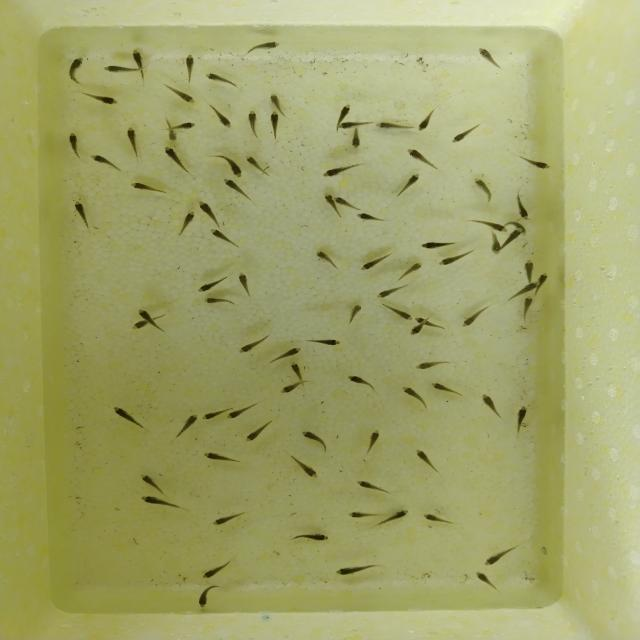fingerling: (284, 451, 322, 480), (226, 399, 267, 422), (234, 332, 274, 354), (162, 144, 190, 175), (162, 83, 198, 107), (321, 162, 368, 180), (138, 473, 176, 495), (137, 495, 185, 512), (207, 227, 244, 249), (477, 45, 507, 72), (398, 384, 429, 410), (507, 192, 534, 221), (302, 430, 332, 456), (332, 563, 387, 577), (213, 154, 245, 178), (405, 146, 438, 169), (245, 154, 278, 177), (414, 447, 441, 475), (239, 40, 281, 58), (196, 273, 232, 294), (480, 546, 516, 567), (195, 582, 222, 610), (204, 70, 239, 91), (219, 178, 252, 200), (394, 171, 424, 195), (459, 305, 489, 329), (276, 377, 316, 395), (129, 180, 169, 198), (111, 406, 147, 426), (199, 560, 233, 581), (242, 422, 274, 444), (210, 510, 249, 528), (448, 124, 483, 144), (312, 249, 343, 271), (73, 200, 94, 232), (200, 450, 244, 465), (359, 252, 392, 272), (413, 358, 460, 372), (354, 479, 395, 495), (415, 105, 440, 131), (471, 177, 495, 204), (474, 570, 502, 593), (374, 283, 414, 299), (436, 252, 476, 268), (290, 529, 330, 545), (345, 374, 378, 393), (174, 413, 199, 438), (342, 507, 381, 523), (480, 392, 502, 420), (421, 510, 457, 527), (66, 54, 85, 86), (396, 260, 426, 280), (177, 209, 198, 237), (125, 127, 142, 161), (210, 105, 234, 129), (507, 280, 539, 298), (512, 404, 530, 436), (197, 199, 220, 224), (270, 346, 307, 361), (382, 507, 416, 523), (521, 155, 553, 172), (364, 427, 382, 457), (305, 336, 343, 350), (429, 380, 466, 394), (88, 154, 120, 170), (418, 240, 464, 251), (235, 270, 253, 298), (383, 305, 414, 321), (472, 220, 510, 232), (181, 53, 196, 83), (372, 121, 412, 132), (87, 94, 121, 106), (65, 132, 82, 156), (246, 109, 260, 138), (201, 406, 226, 422), (268, 110, 281, 139), (200, 296, 236, 306), (337, 120, 373, 130), (346, 303, 363, 324), (348, 132, 364, 154), (100, 64, 137, 73), (522, 258, 536, 281), (286, 362, 306, 378), (522, 296, 534, 322), (266, 92, 283, 110), (356, 212, 386, 222), (130, 46, 145, 66), (489, 235, 503, 256), (336, 102, 352, 120), (405, 325, 426, 338), (179, 119, 198, 132), (127, 319, 146, 331), (164, 130, 180, 144), (509, 226, 527, 237), (320, 191, 334, 205), (134, 308, 153, 318), (333, 195, 347, 207), (538, 272, 551, 283), (414, 316, 424, 324)
